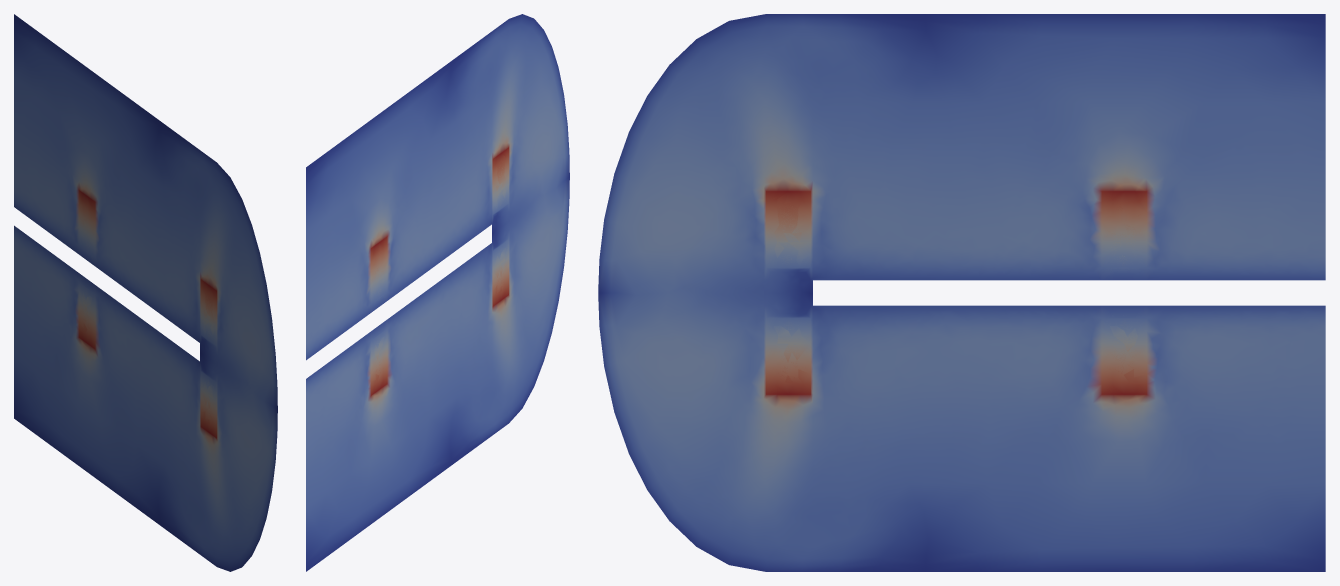
3 renders of one model, left to right at view 1: azimuth 30°, elevation 25°; view 2: azimuth 150°, elevation 25°; view 3: azimuth 270°, elevation 25°, orthographic. The views are drawn at different scales.
Parts seen in each view (by area): view 1: Shape_IndexedFaceSet.002; view 2: Shape_IndexedFaceSet.002; view 3: Shape_IndexedFaceSet.002.
Boxes of the visible parts, x1,y1,x2,y2 form: Shape_IndexedFaceSet.002: [14, 14, 277, 571]; Shape_IndexedFaceSet.002: [306, 14, 569, 571]; Shape_IndexedFaceSet.002: [598, 14, 1325, 571].
Size of the model in its own units: 1.96e-05 by 110 by 130.
